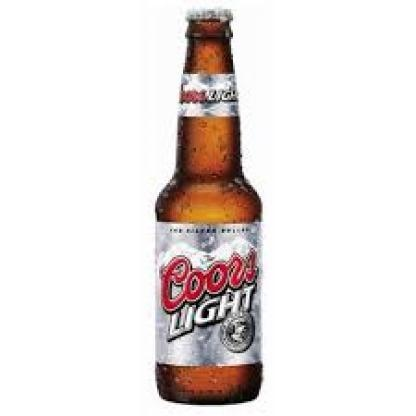trash: (156, 10, 261, 403)
